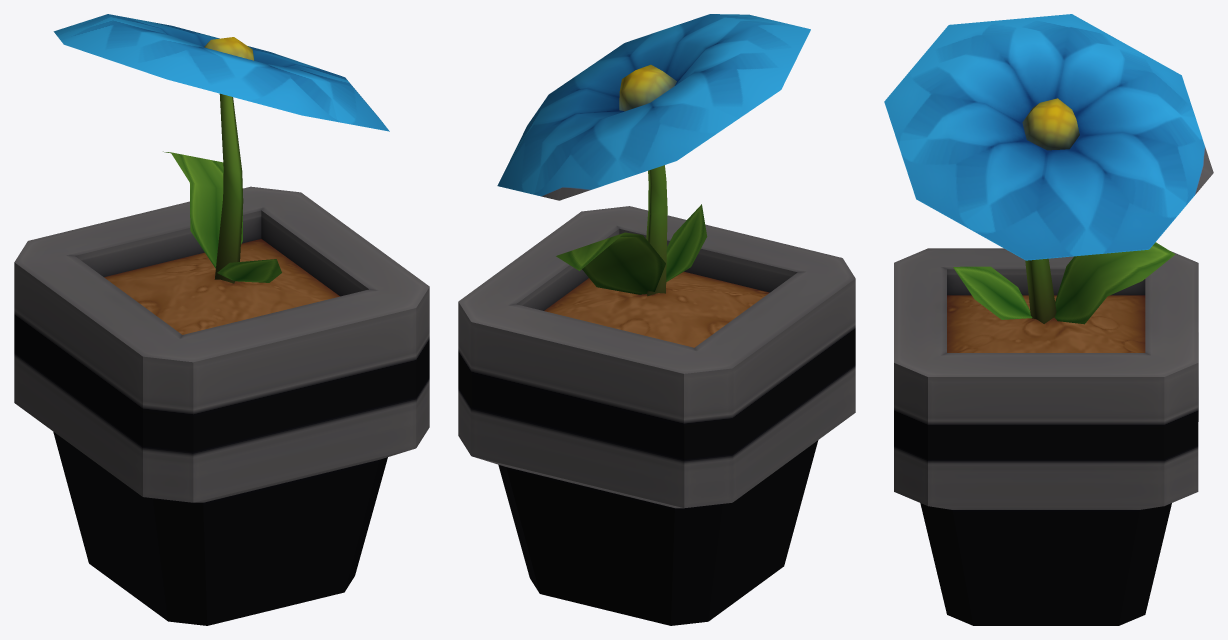
File: obj_plants_blueflower.fbx
3 renders of one model, left to right at view 1: azimuth 30°, elevation 25°; view 2: azimuth 150°, elevation 25°; view 3: azimuth 270°, elevation 25°, orthographic. The views are drawn at different scales.
Visible parts, largest first — view 1: LP2; view 2: LP2; view 3: LP2.
Part boxes in pixels (x1=…): LP2: x1=14, y1=14, x2=429, y2=625; LP2: x1=458, y1=14, x2=855, y2=625; LP2: x1=884, y1=14, x2=1213, y2=625.
Bounding box in the file's own units: 1.01 × 1.88 × 1.08.
